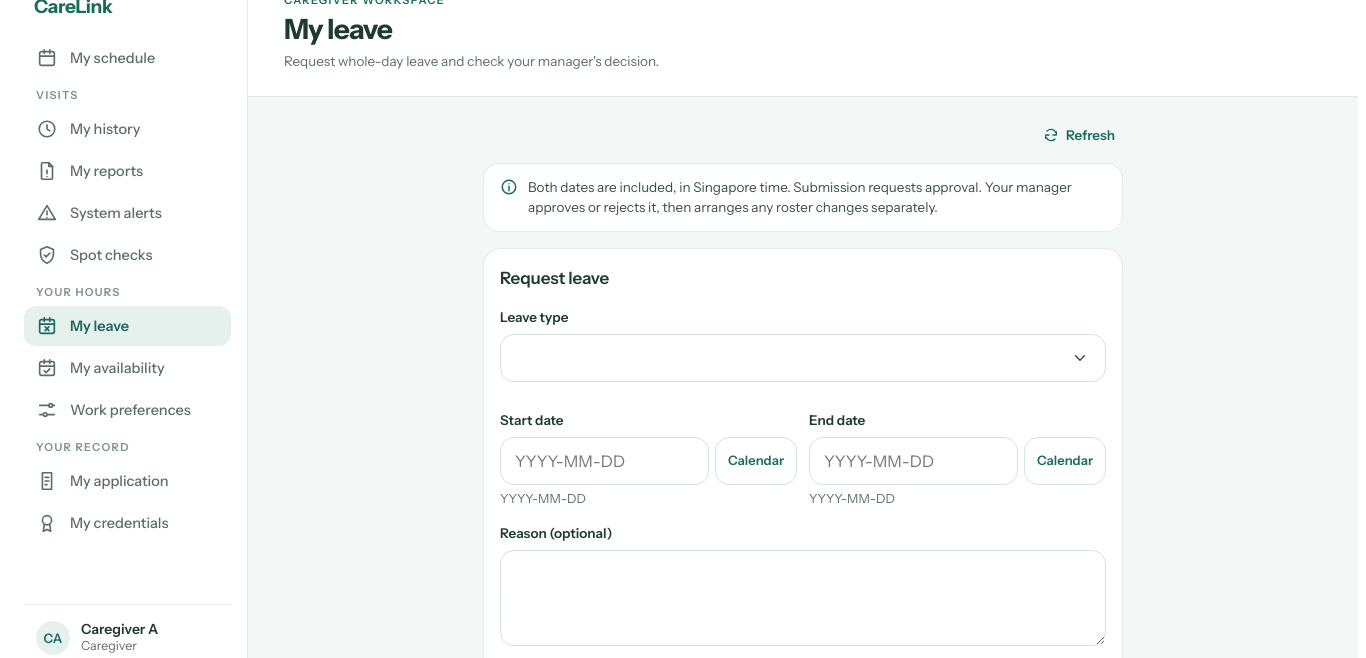
Test case: caregiver leave self-service › rejects impossible manually typed dates without posting
Expected: the heading "My leave" is shown, [284,12,392,46]
Type "2026-02-31" into the field labelled "Start date" at (605,461), box [500,437,709,485]
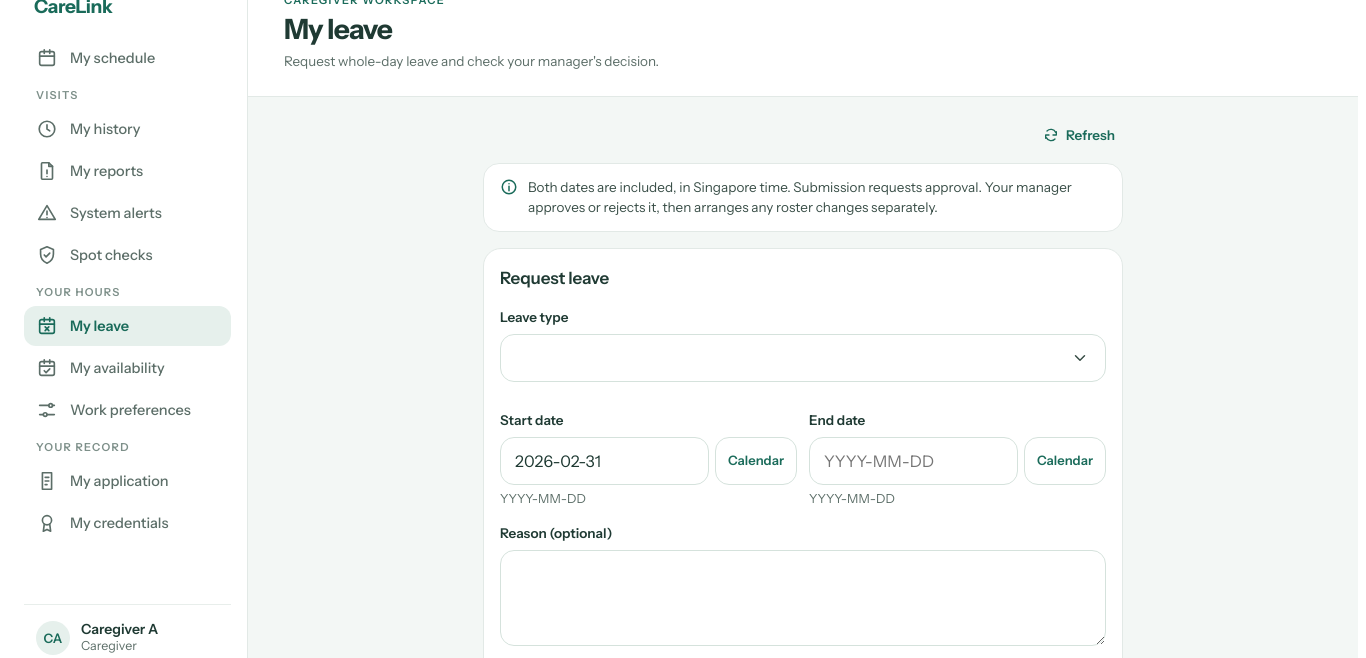
Type "Family time" into the text box labelled "Reason (optional)" at (803,598), box [500,550,1106,646]
(page scrolled)
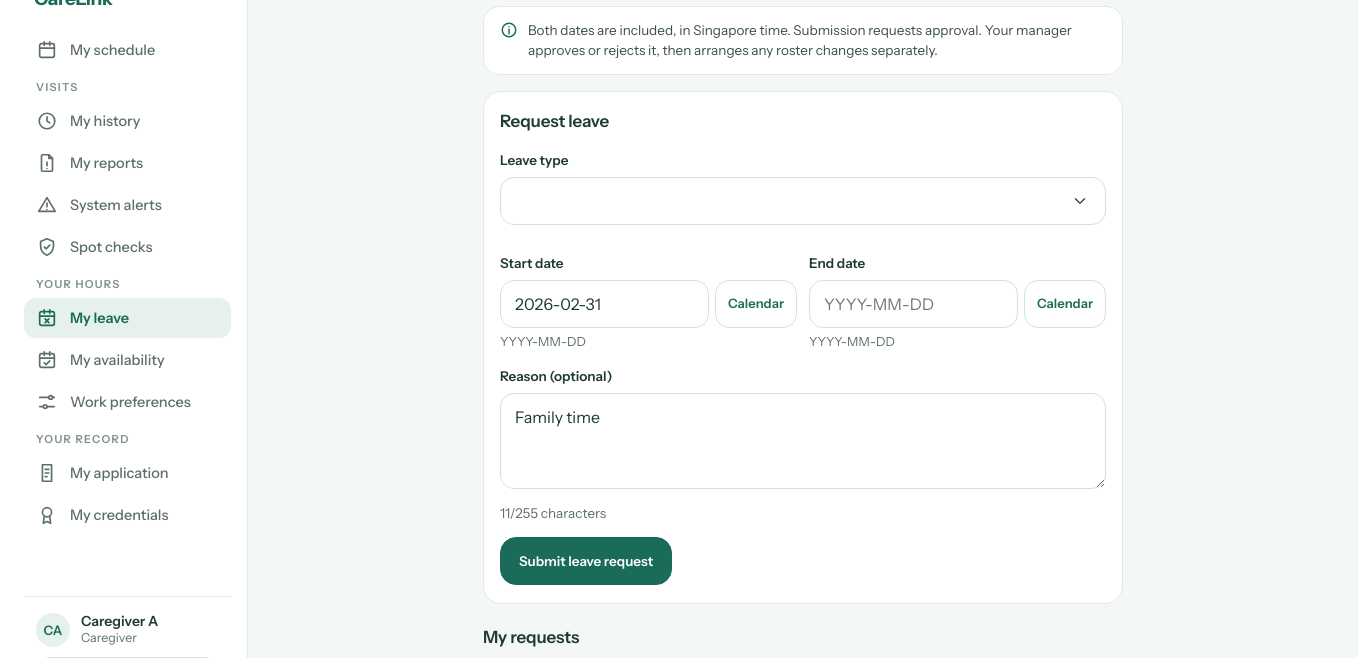
Submit the form "Request leave", box [483,90,1123,604]
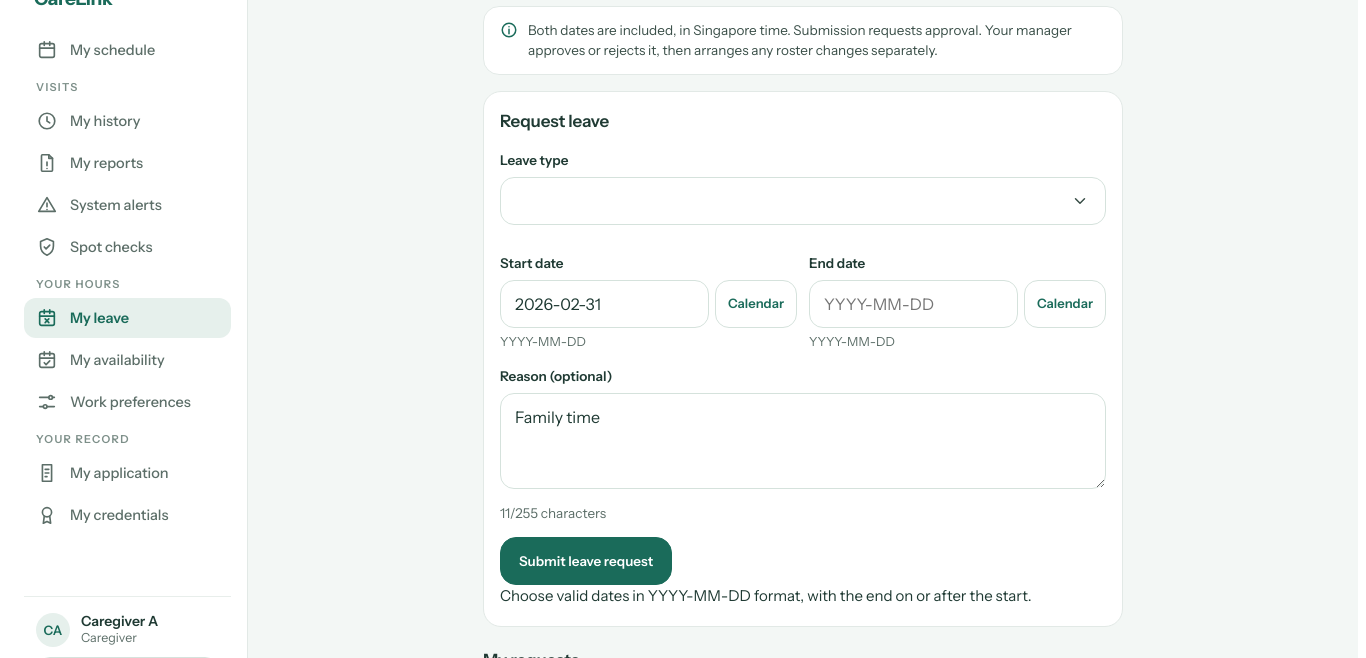
Expected: the message shows "Choose valid dates in YYYY-MM-DD format", [500,586,1032,605]
